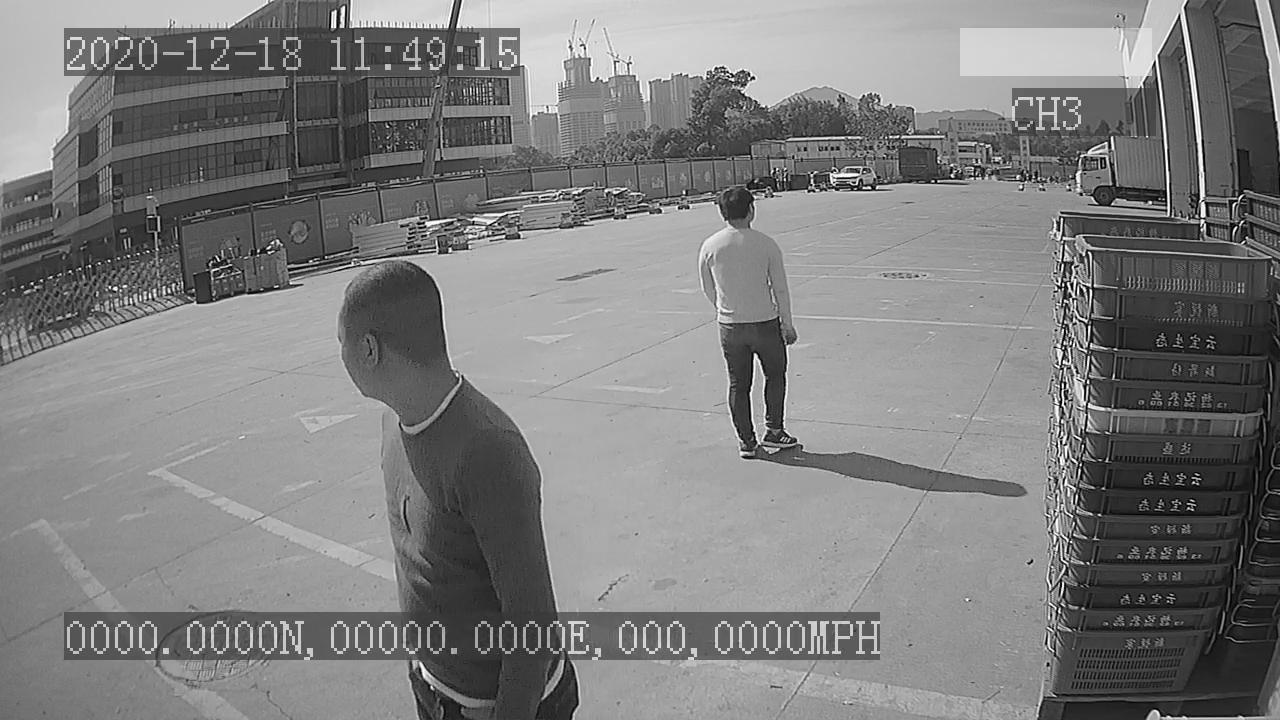person: (692, 183, 806, 465)
